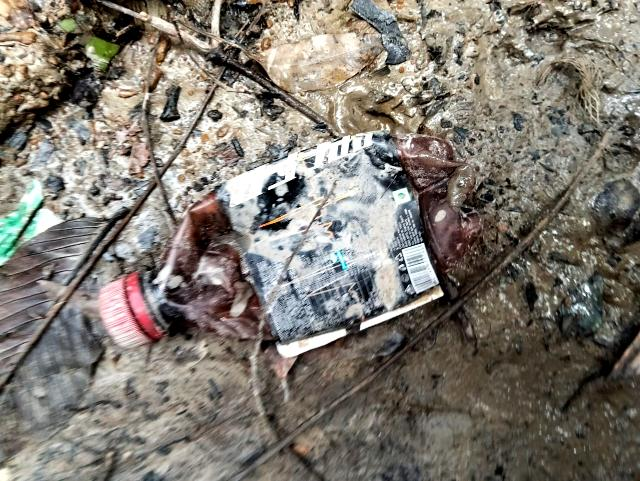bottle: (79, 122, 507, 392)
